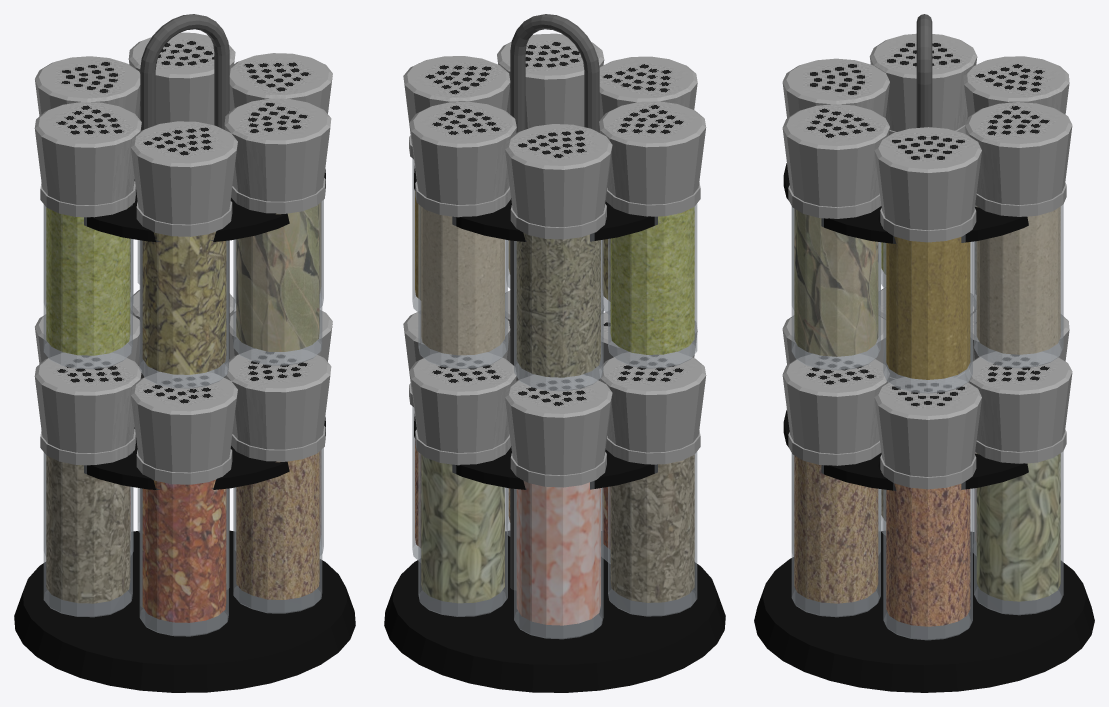
Rendered from spiceTower.obj.
3 views of the same model, side by side, from view 1: azimuth 30°, elevation 25°; view 2: azimuth 150°, elevation 25°; view 3: azimuth 270°, elevation 25° (orthographic).
Visible parts, largest first — view 1: base_Cylinder, redPepperPot_Cylinder.001, basilPot_Cylinder.005, thymePot_Cylinder.026, wasabiPot_Cylinder.027, cilantroPot_Cylinder.010, bayLeafPot_Cylinder.011, sweethome3d_window_mirror_basillPot, sweethome3d_window_mirror_redPepperPot, sweethome3d_window_mirror_wasabiPot, sweethome3d_window_mirror_bayLeafPot, sweethome3d_window_mirror_thymePot (+9 smaller); view 2: base_Cylinder, roseMaryPot_Cylinder.023, himalayanSugarPot_Cylinder.022, wasabiPot_Cylinder.027, thymePot_Cylinder.026, gingerPot_Cylinder.019, fennelPot_Cylinder.018, sweethome3d_window_mirror_roseMaryPot, sweethome3d_window_mirror_himalayanSugarPot, sweethome3d_window_mirror_gingerPot, sweethome3d_window_mirror_wasabiPot, sweethome3d_window_mirror_fennelPot (+13 smaller); view 3: base_Cylinder, cinnamonPot_Cylinder.014, curryPot_Cylinder.015, gingerPot_Cylinder.019, bayLeafPot_Cylinder.011, cilantroPot_Cylinder.010, fennelPot_Cylinder.018, sweethome3d_window_mirror_curryPot, sweethome3d_window_mirror_cinnamonPot, sweethome3d_window_mirror_bayLeafPot, sweethome3d_window_mirror_gingerPot, sweethome3d_window_mirror_cilantroPot (+9 smaller).
Boxes of the visible parts, box(x1,y1,x2,y2) form: base_Cylinder: box(14, 530, 355, 692); redPepperPot_Cylinder.001: box(139, 479, 228, 636); basilPot_Cylinder.005: box(139, 231, 228, 388); thymePot_Cylinder.026: box(43, 452, 132, 617); wasabiPot_Cylinder.027: box(43, 204, 132, 369); cilantroPot_Cylinder.010: box(233, 449, 322, 613); bayLeafPot_Cylinder.011: box(233, 201, 322, 365); sweethome3d_window_mirror_basillPot: box(131, 121, 237, 236); sweethome3d_window_mirror_redPepperPot: box(131, 372, 237, 484); sweethome3d_window_mirror_wasabiPot: box(34, 102, 141, 217); sweethome3d_window_mirror_bayLeafPot: box(224, 98, 331, 213); sweethome3d_window_mirror_thymePot: box(34, 352, 141, 465); base_Cylinder: box(384, 531, 725, 692); roseMaryPot_Cylinder.023: box(514, 232, 603, 391); himalayanSugarPot_Cylinder.022: box(514, 480, 603, 639); wasabiPot_Cylinder.027: box(608, 204, 697, 368); thymePot_Cylinder.026: box(608, 452, 697, 616); gingerPot_Cylinder.019: box(418, 204, 507, 368); fennelPot_Cylinder.018: box(418, 452, 507, 616); sweethome3d_window_mirror_roseMaryPot: box(505, 124, 612, 239); sweethome3d_window_mirror_himalayanSugarPot: box(505, 374, 612, 487); sweethome3d_window_mirror_gingerPot: box(409, 101, 516, 217); sweethome3d_window_mirror_wasabiPot: box(599, 101, 706, 216); sweethome3d_window_mirror_fennelPot: box(409, 352, 516, 465); base_Cylinder: box(754, 531, 1094, 692); cinnamonPot_Cylinder.014: box(883, 482, 972, 640); curryPot_Cylinder.015: box(883, 235, 972, 393); gingerPot_Cylinder.019: box(974, 204, 1063, 368); bayLeafPot_Cylinder.011: box(791, 207, 880, 370); cilantroPot_Cylinder.010: box(791, 453, 880, 617); fennelPot_Cylinder.018: box(974, 451, 1063, 615); sweethome3d_window_mirror_curryPot: box(874, 127, 981, 242); sweethome3d_window_mirror_cinnamonPot: box(874, 377, 981, 489); sweethome3d_window_mirror_bayLeafPot: box(782, 104, 889, 218); sweethome3d_window_mirror_gingerPot: box(965, 102, 1072, 216); sweethome3d_window_mirror_cilantroPot: box(782, 354, 889, 465).
Size of the model in its own units: 15.9 by 31 by 15.9.
